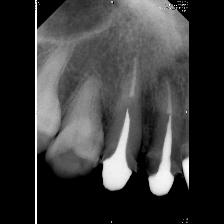apical_lesion: (147, 51, 187, 197)
